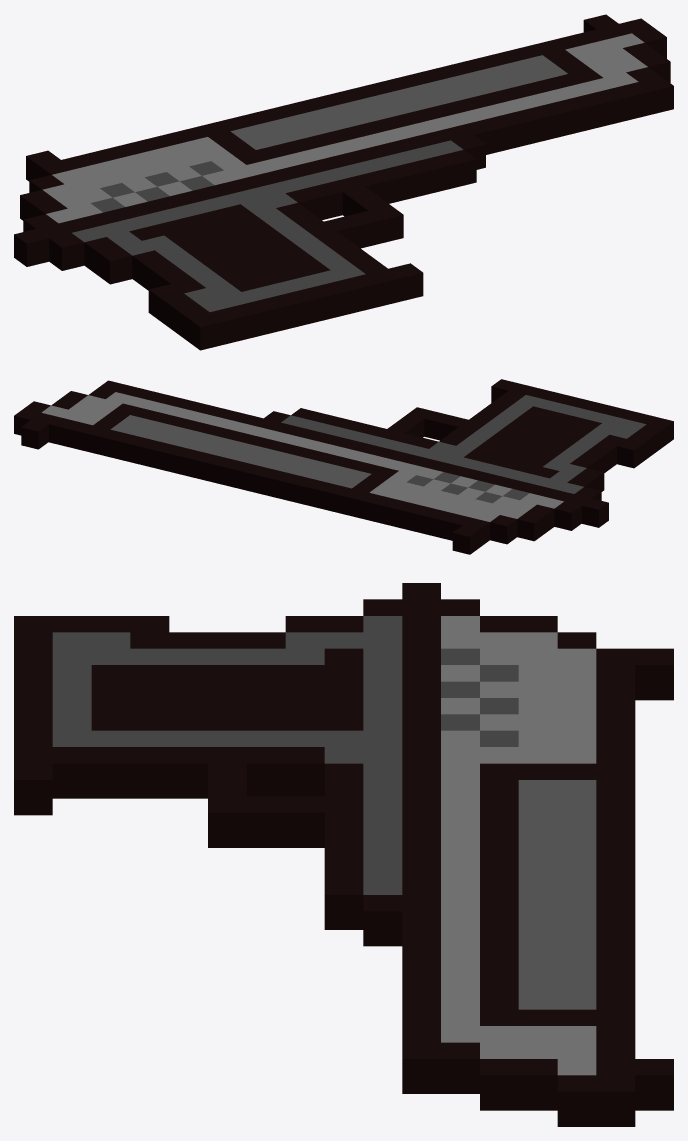
Rendered from DesertEagle.obj.
The picture shows the model from 3 angles, top to bottom: view 1: azimuth 30°, elevation 25°; view 2: azimuth 150°, elevation 25°; view 3: azimuth 270°, elevation 25°; orthographic projection. The views are drawn at different scales.
Parts seen in each view (by area): view 1: DesertEagle; view 2: DesertEagle; view 3: DesertEagle.
Boxes of the visible parts, x1=… form: DesertEagle: x1=14, y1=14, x2=673, y2=350; DesertEagle: x1=14, y1=379, x2=673, y2=554; DesertEagle: x1=14, y1=583, x2=673, y2=1126.
Size of the model in its own units: 31 by 1 by 17.
1 material, 1 textured.
